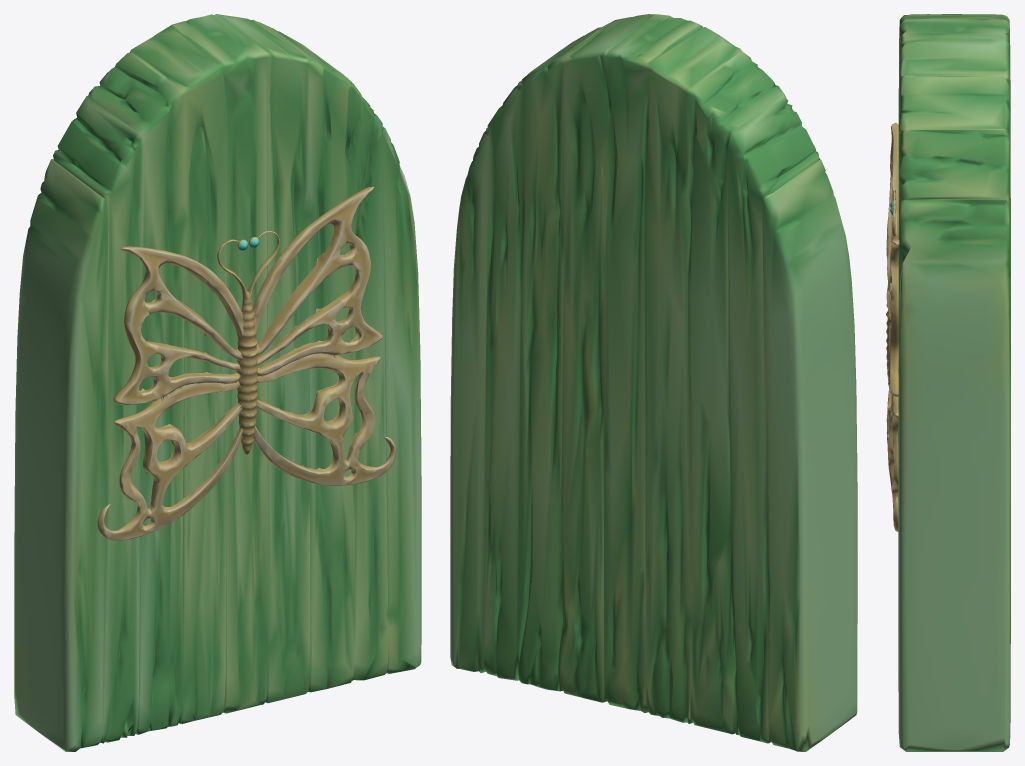
Rendered from SM_Door_green.fbx.
The picture shows the model from 3 angles, left to right: view 1: azimuth 30°, elevation 25°; view 2: azimuth 150°, elevation 25°; view 3: azimuth 270°, elevation 25°; orthographic projection. The views are drawn at different scales.
Parts seen in each view (by area): view 1: Door_green; view 2: Door_green; view 3: Door_green.
Boxes of the visible parts, left/top/right/bottom form: Door_green: left=14, top=14, right=421, bottom=751; Door_green: left=450, top=14, right=857, bottom=751; Door_green: left=886, top=14, right=1010, bottom=751.
Size of the model in its own units: 93.26 by 163 by 28.79.
